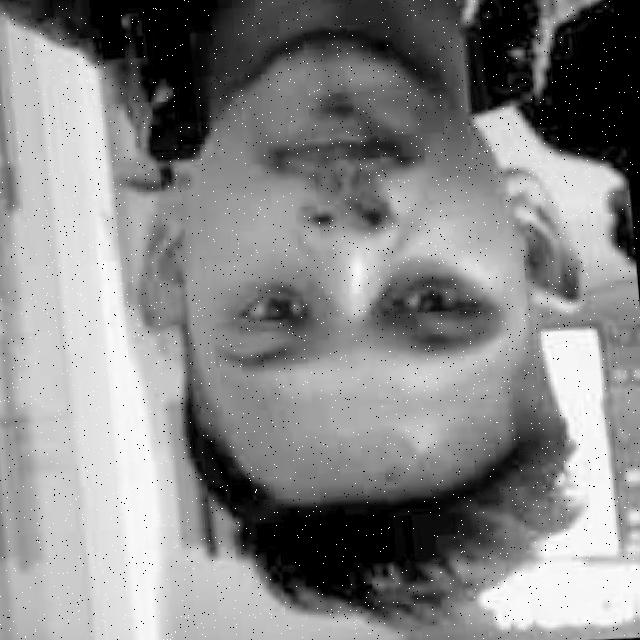puffy_eyes: (375, 260, 486, 305)
